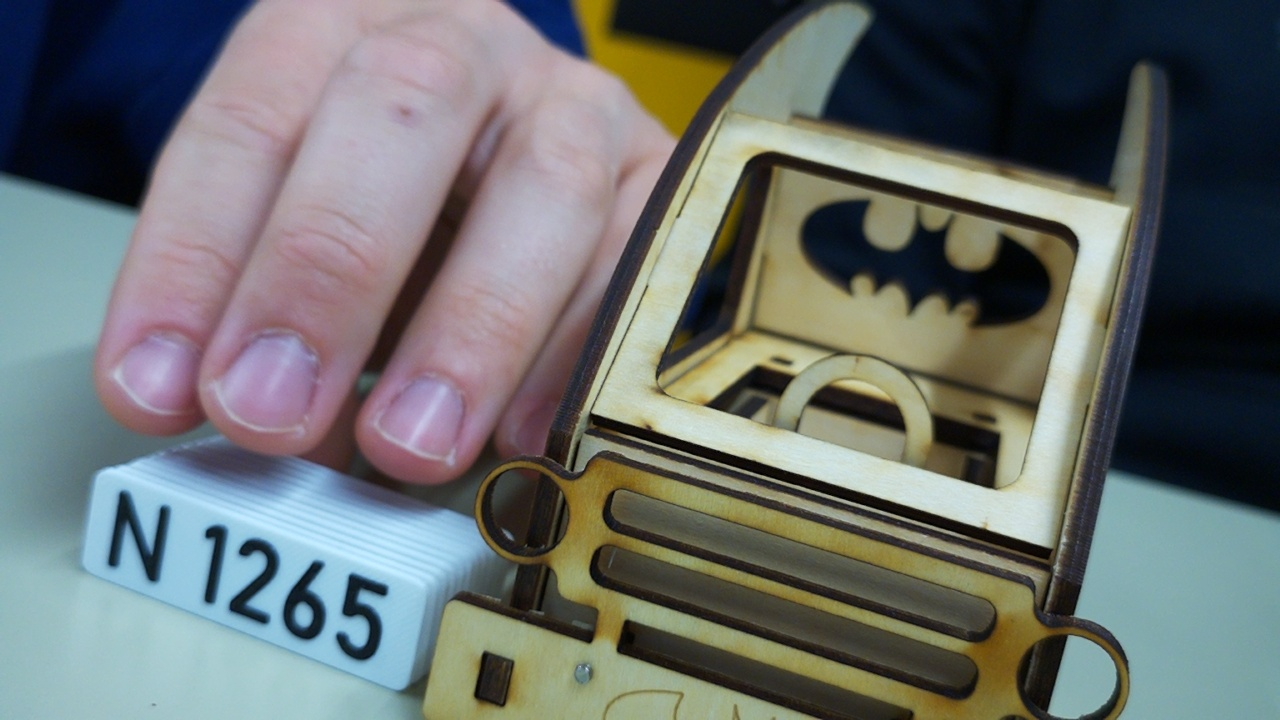license_plate: (75, 461, 431, 694)
